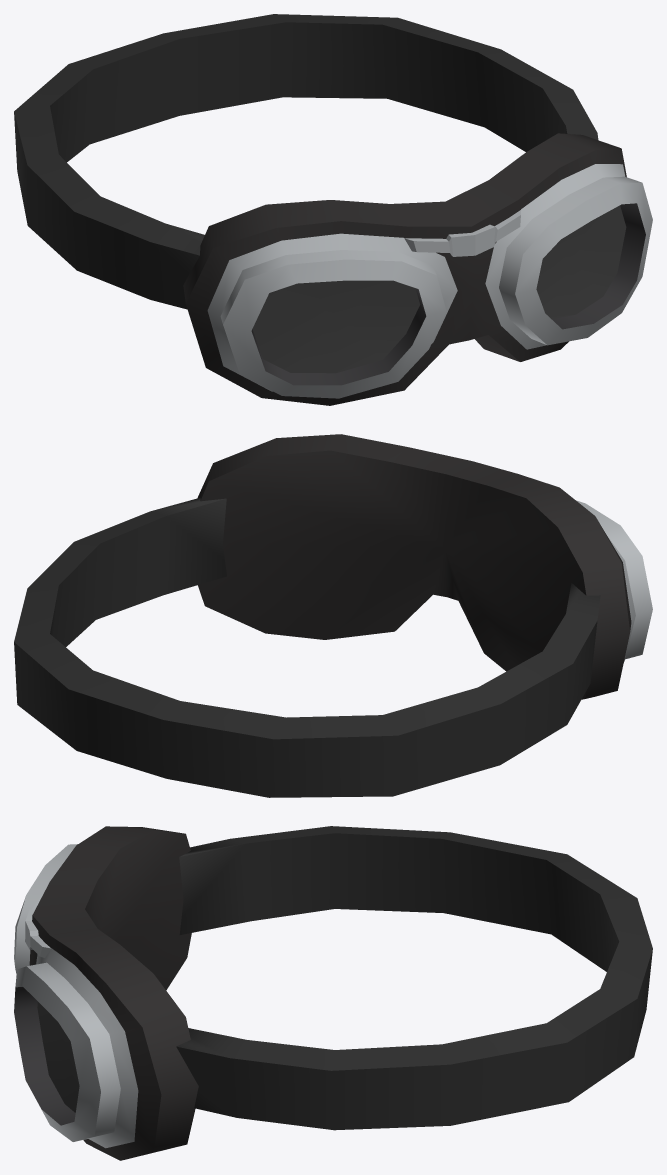
File: Eyewear_15.fbx
3 views of the same model, one above another, from view 1: azimuth 30°, elevation 25°; view 2: azimuth 150°, elevation 25°; view 3: azimuth 270°, elevation 25° (orthographic).
Parts seen in each view (by area): view 1: Eyewear_15; view 2: Eyewear_15; view 3: Eyewear_15.
Boxes of the visible parts, bbox=[...] form: Eyewear_15: bbox=[14, 14, 652, 405]; Eyewear_15: bbox=[14, 434, 652, 797]; Eyewear_15: bbox=[14, 826, 652, 1160].
Size of the model in its own units: 76.01 by 27.57 by 83.85.
